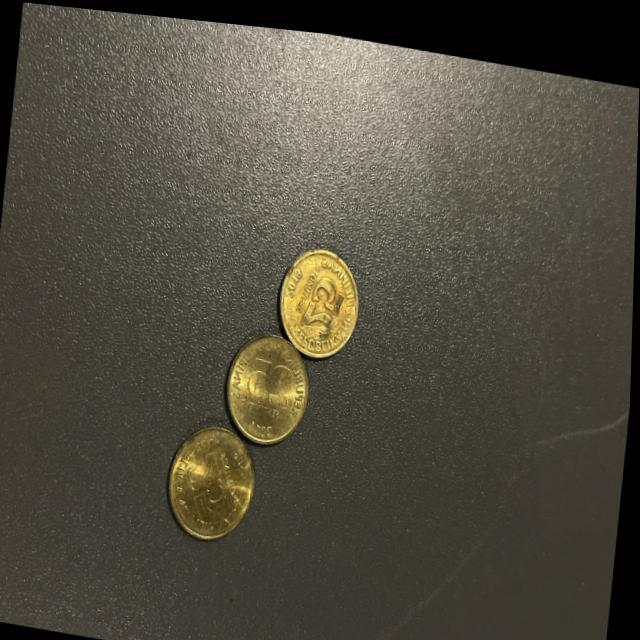25Cent_Old_Front: (164, 421, 261, 542), (273, 237, 365, 353)
